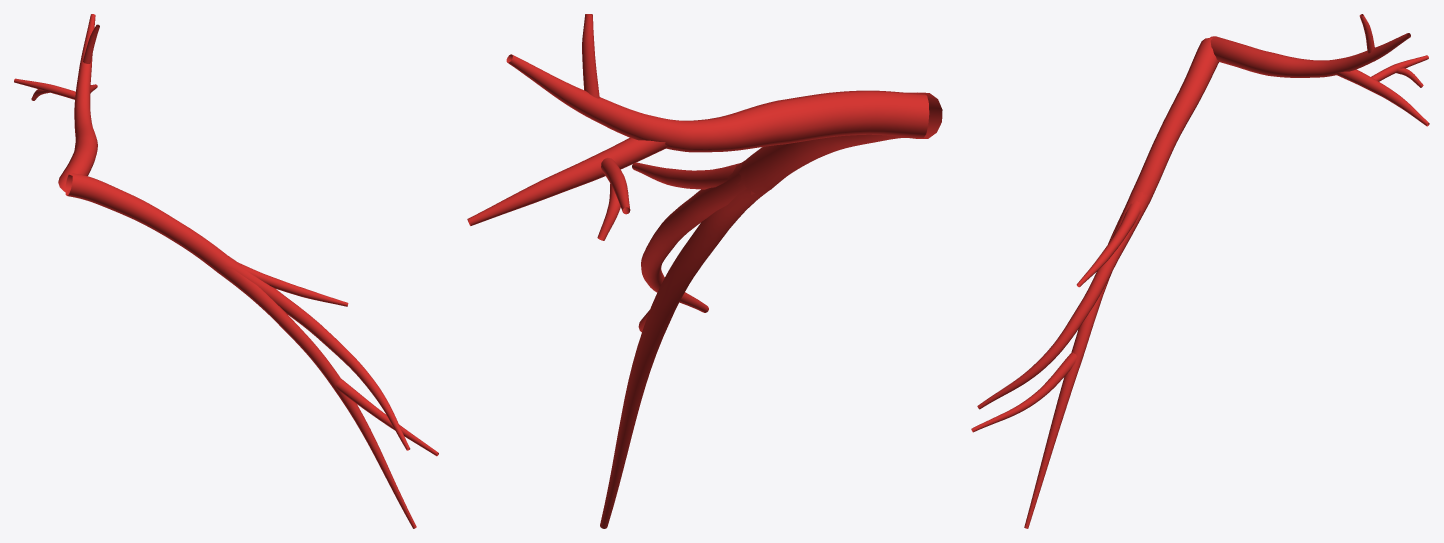
The model's file is circulatorio-superior-vein-of-left-lung.glb.
The picture shows the model from 3 angles, left to right: view 1: azimuth 30°, elevation 25°; view 2: azimuth 150°, elevation 25°; view 3: azimuth 270°, elevation 25°; orthographic projection. The views are drawn at different scales.
Parts seen in each view (by area): view 1: Superior vein of left lung; view 2: Superior vein of left lung; view 3: Superior vein of left lung.
Part boxes in pixels (x1=…): Superior vein of left lung: x1=14, y1=14, x2=438, y2=528; Superior vein of left lung: x1=467, y1=14, x2=942, y2=528; Superior vein of left lung: x1=971, y1=14, x2=1429, y2=528.
Bounding box in the file's own units: 0.0743 × 0.1137 × 0.1081.
